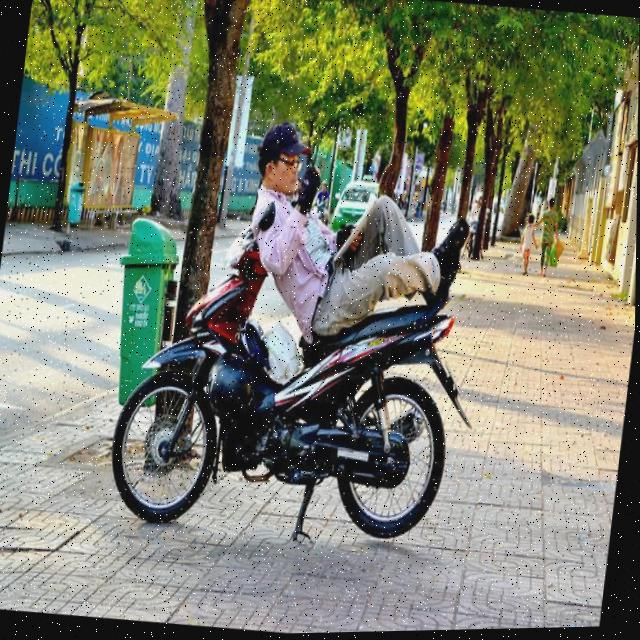motorcycle: (100, 201, 497, 570)
